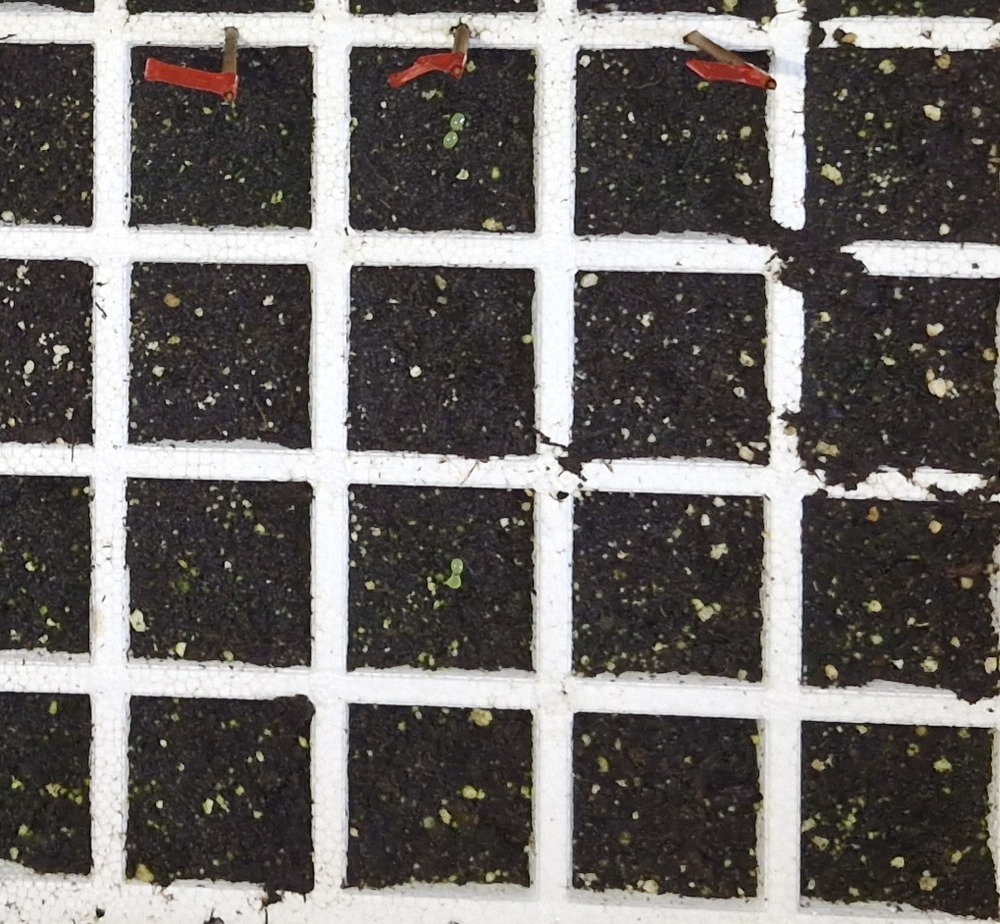Folha: (450, 114, 464, 130), (444, 132, 458, 148), (450, 558, 464, 573), (445, 575, 461, 588)
Germinacao: (444, 113, 465, 148), (444, 558, 463, 588)
